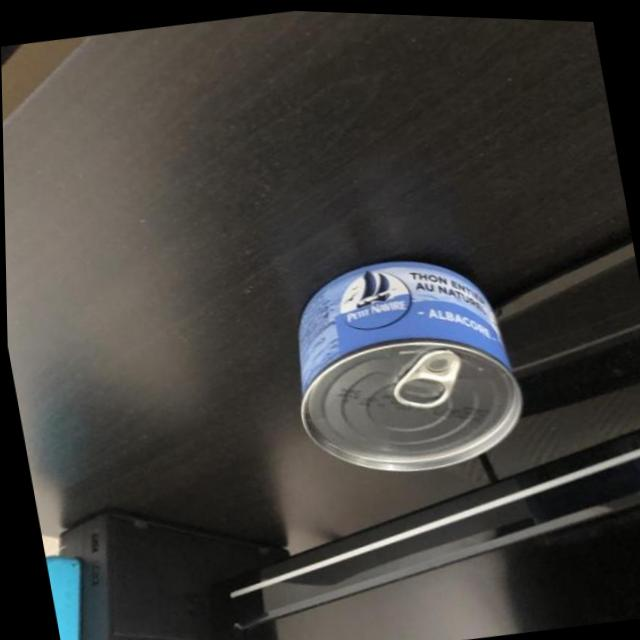metal: (299, 261, 521, 470)
